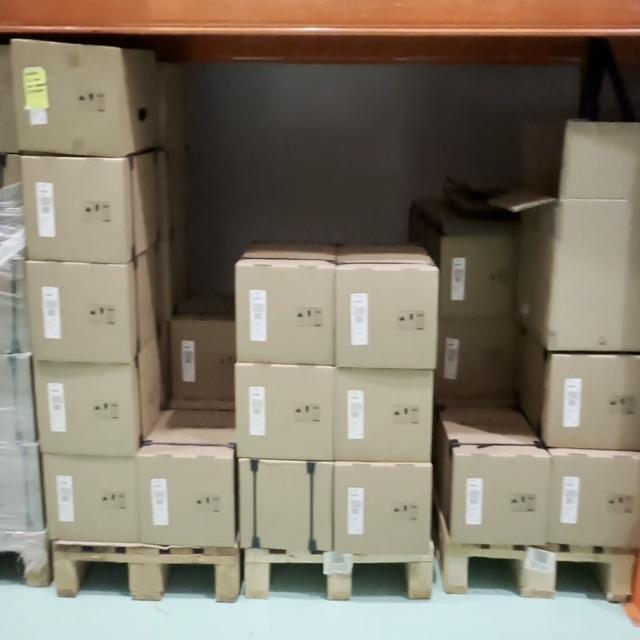box: (10, 41, 134, 156), (20, 154, 132, 256), (27, 263, 134, 359), (237, 364, 333, 461), (34, 366, 137, 456), (340, 269, 434, 367), (549, 355, 640, 451), (236, 268, 332, 358), (138, 454, 235, 542), (334, 460, 428, 550), (43, 458, 136, 548), (337, 373, 430, 462), (551, 454, 640, 546), (236, 464, 331, 545), (460, 456, 546, 539), (441, 233, 518, 314), (438, 320, 515, 396)
